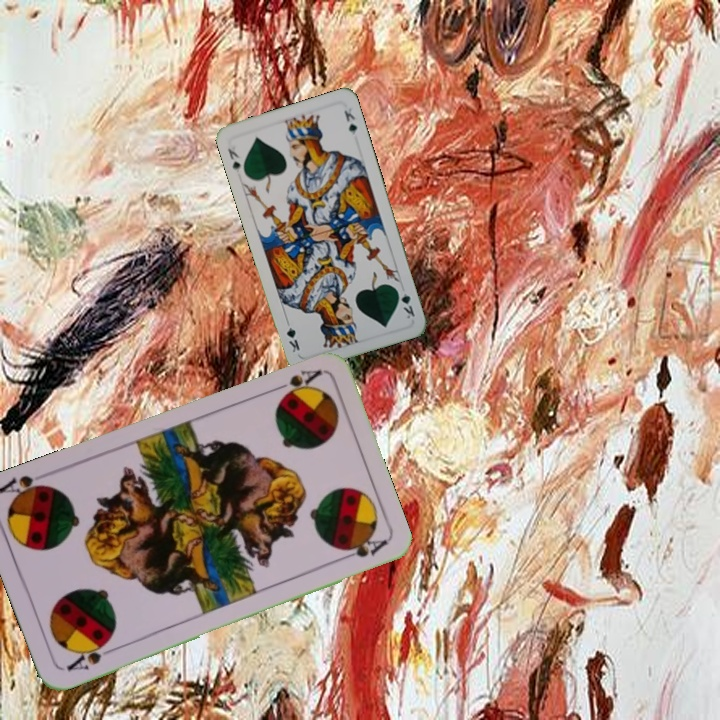GK: (392, 284, 417, 321), (223, 142, 243, 175)
SA: (267, 365, 324, 406), (62, 636, 118, 673)
